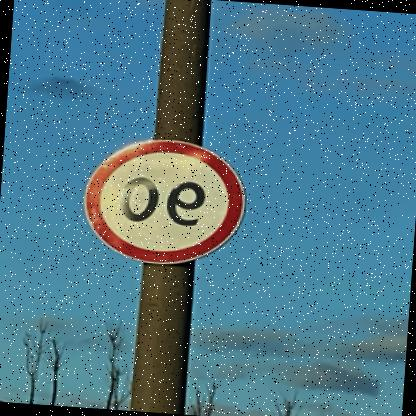speedlimit: (83, 134, 252, 270)
